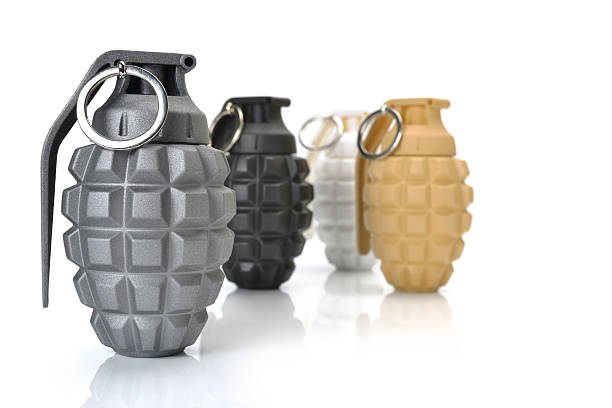e1: (39, 50, 233, 358), (354, 97, 473, 290)
